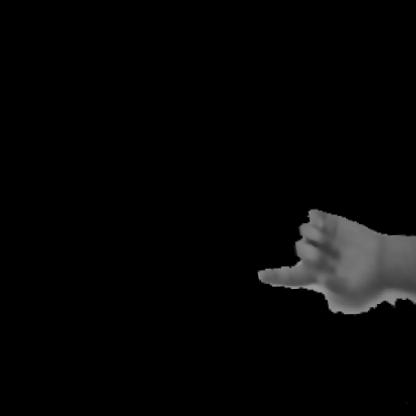one: (215, 183, 415, 332)
